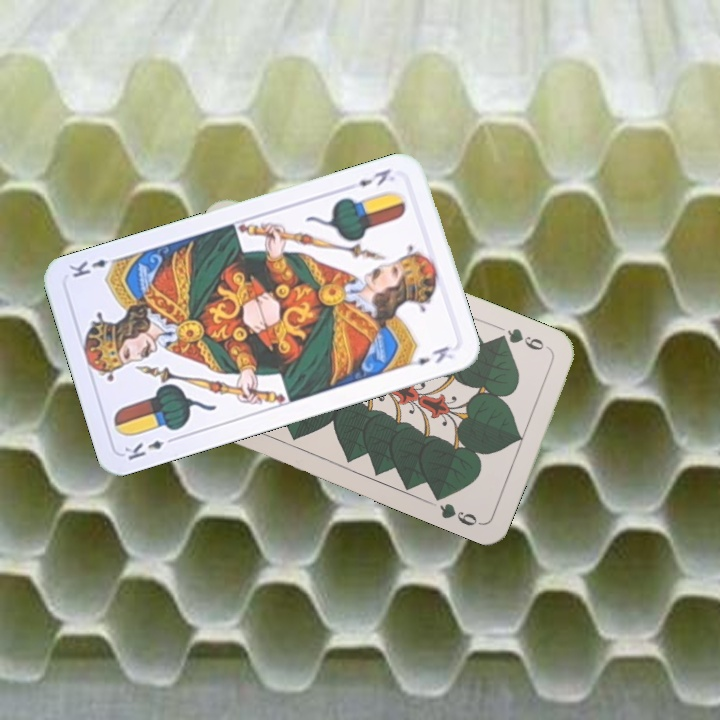EK: (120, 432, 179, 463), (354, 164, 394, 189)
G9: (494, 324, 553, 354)
